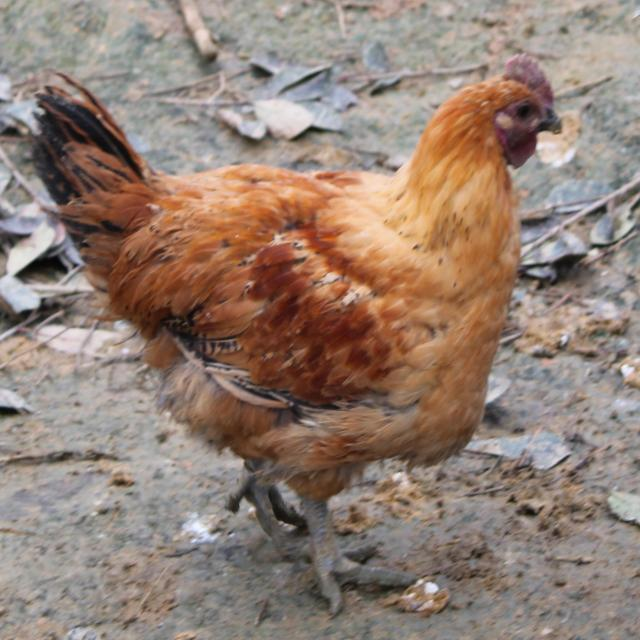hen: (31, 54, 581, 624)
